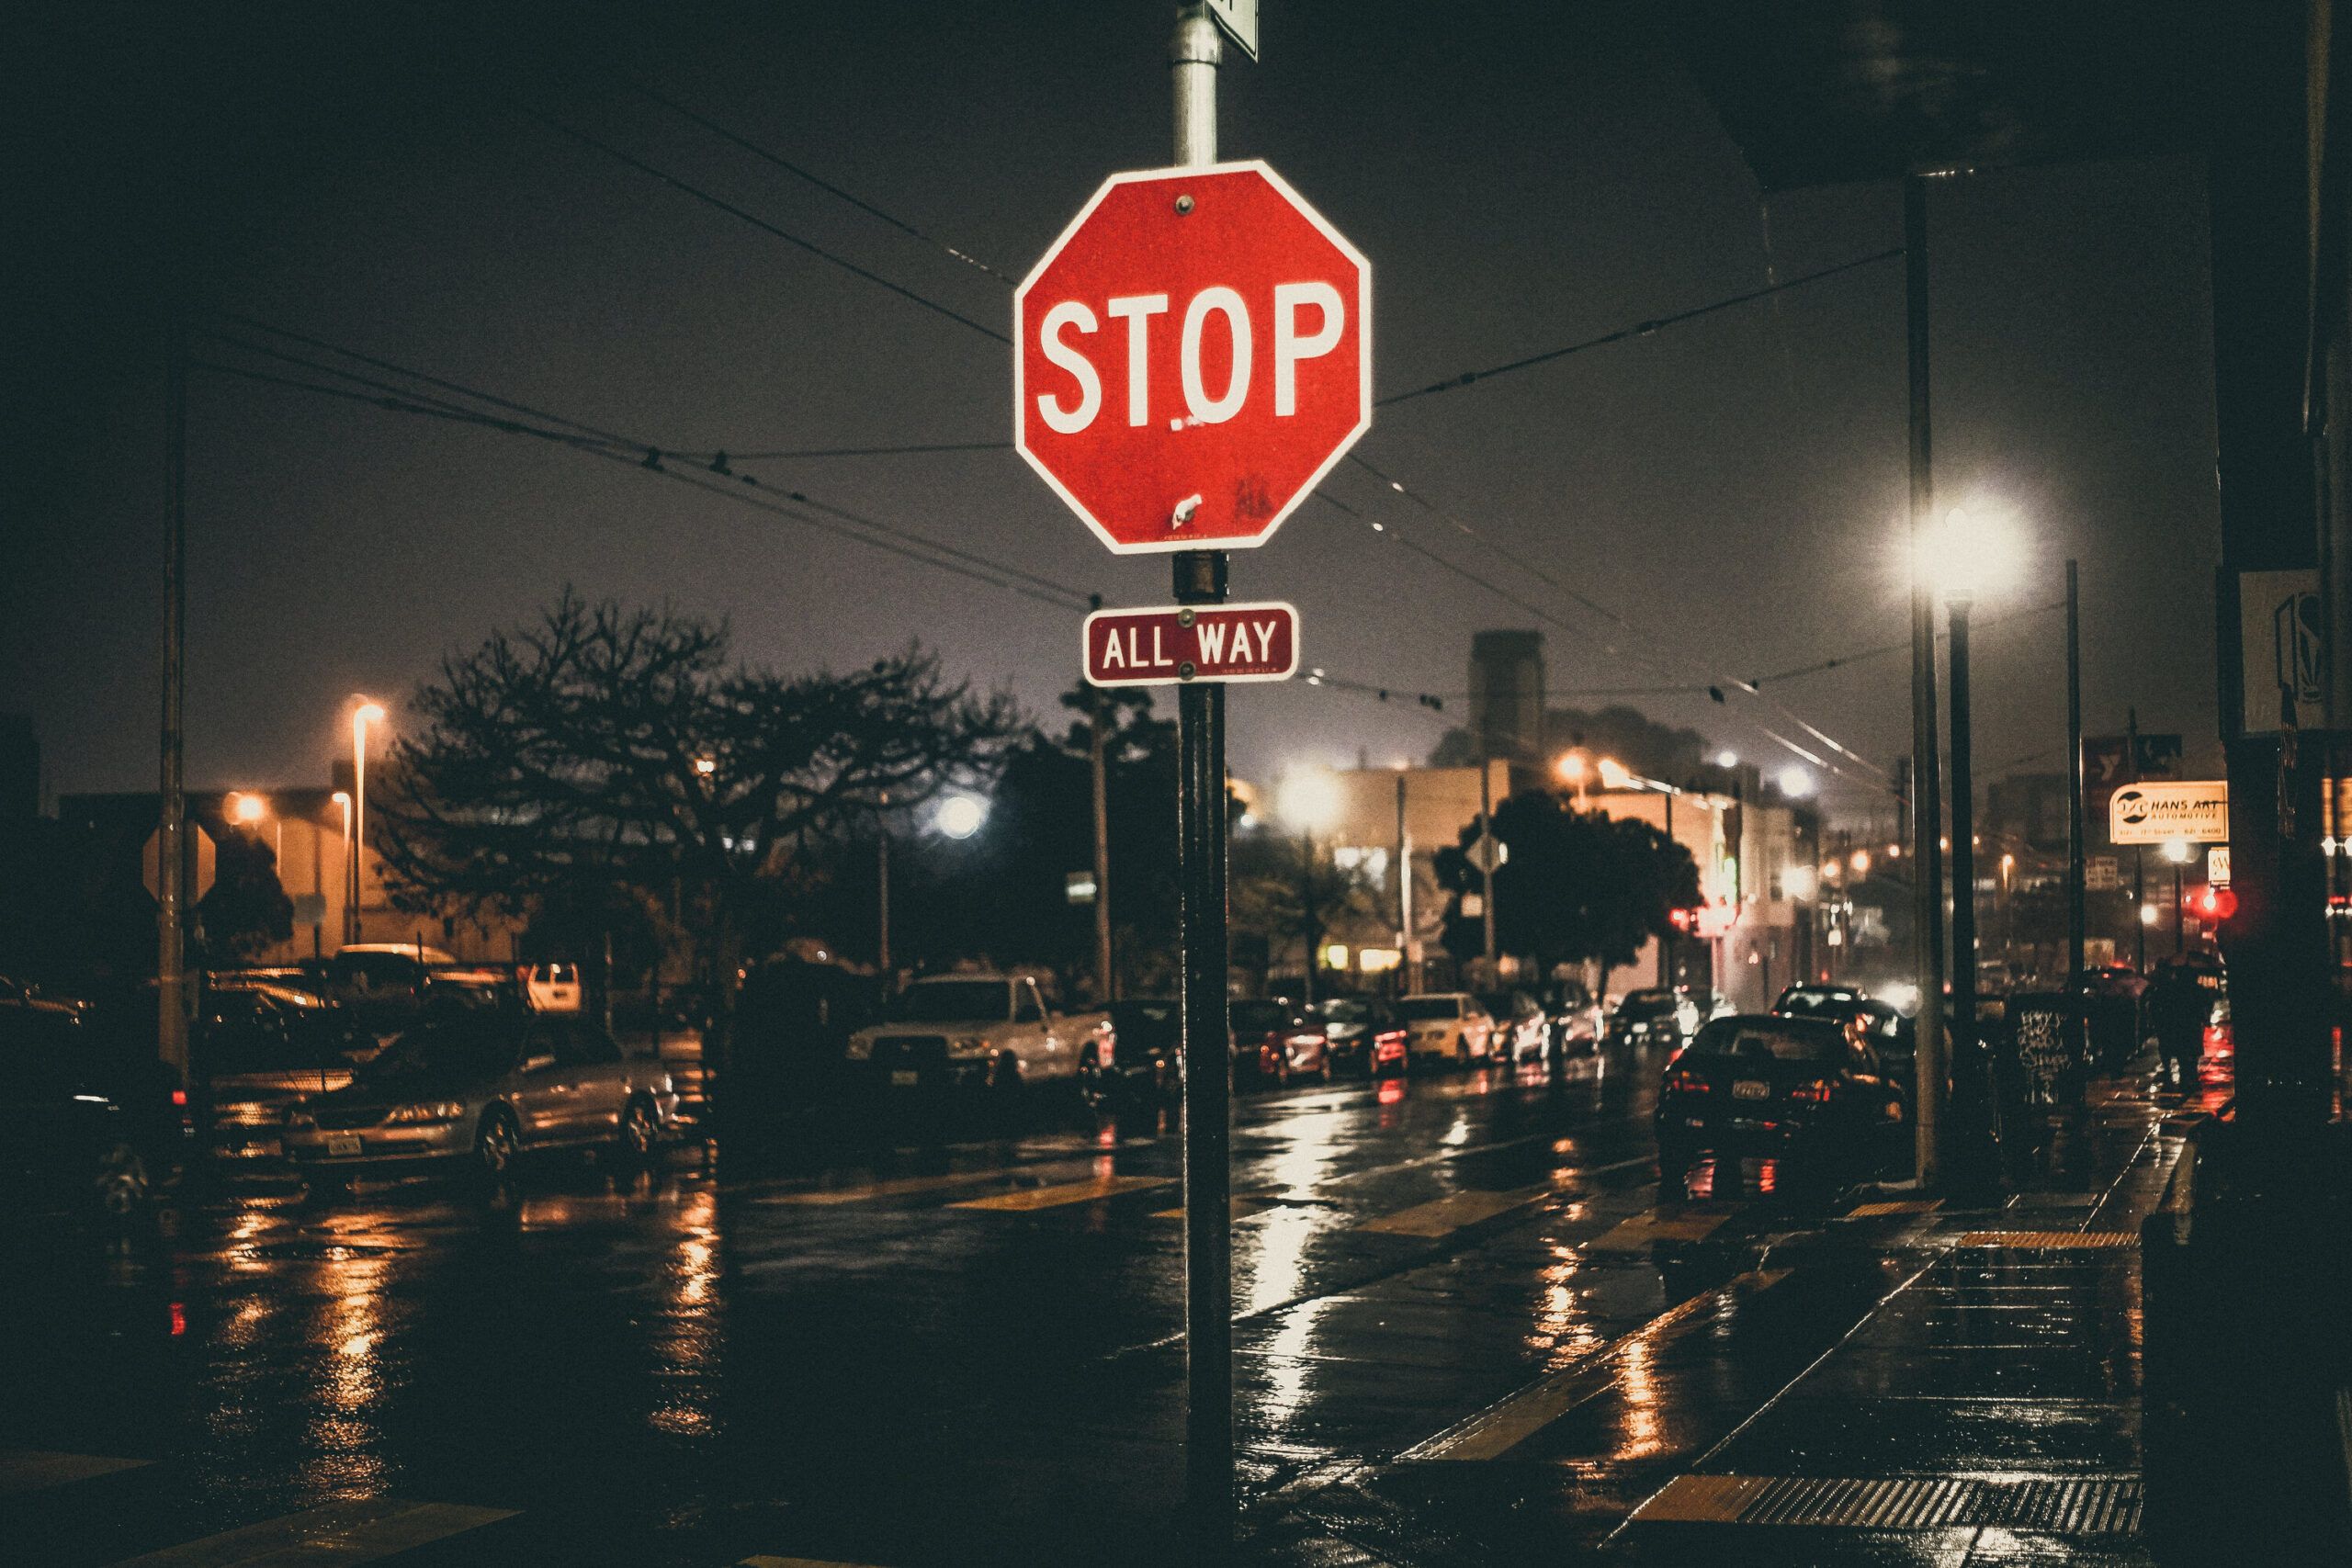sign_stop: (1011, 156, 1374, 557)
